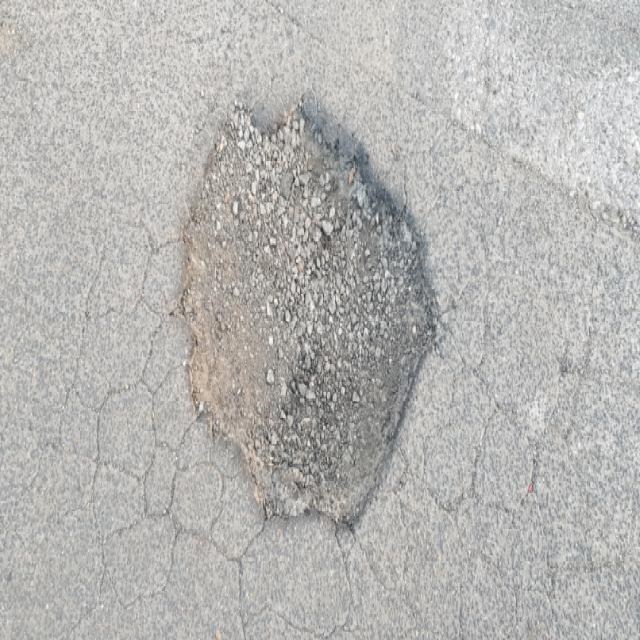Pothole: (177, 72, 444, 542)
